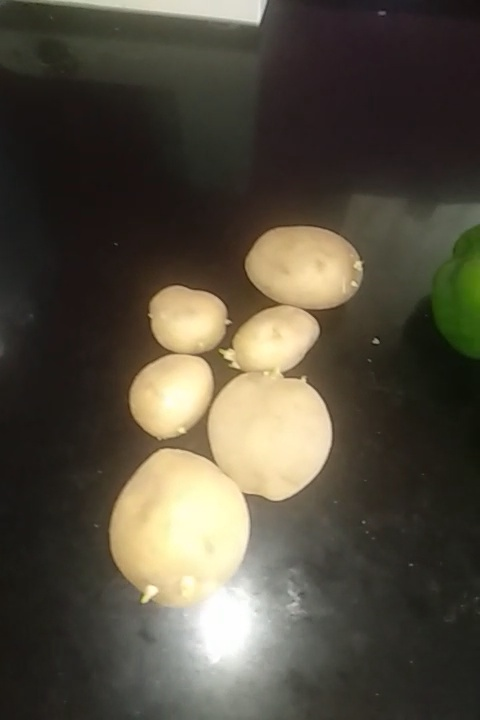capsicum: (427, 225, 480, 369)
potato: (103, 435, 262, 616), (204, 368, 339, 503), (249, 229, 366, 309), (134, 350, 222, 432), (227, 303, 327, 369), (147, 284, 243, 352)
